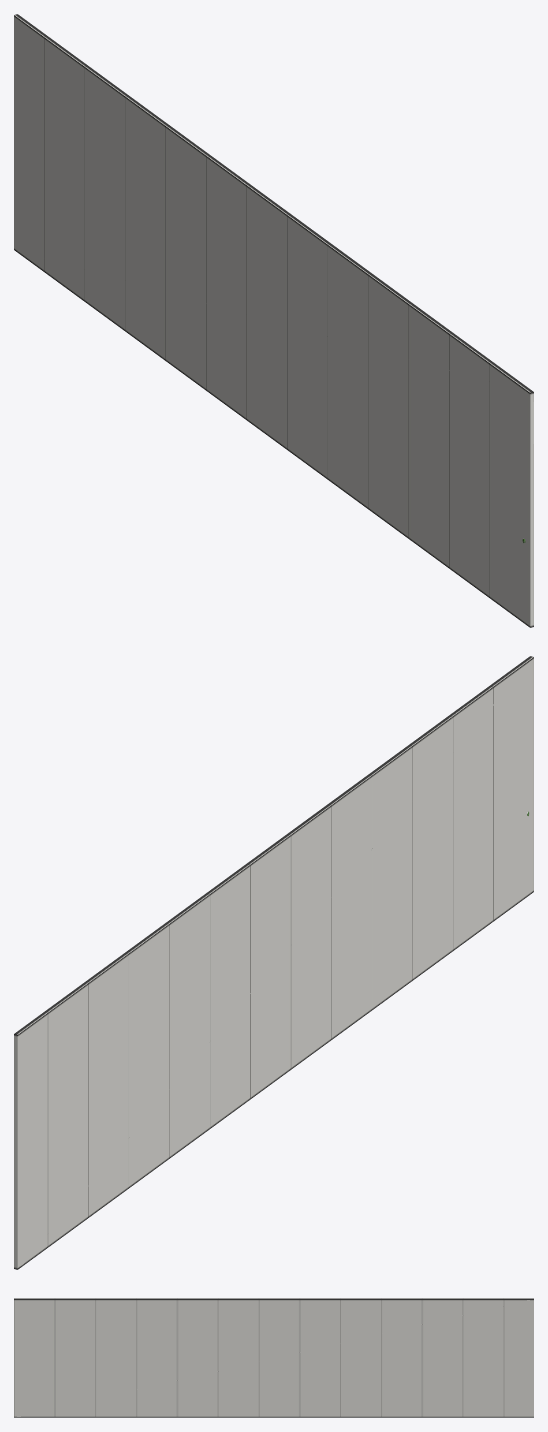
File: Divider23.fbx
3 views of the same model, one above another, from view 1: azimuth 30°, elevation 25°; view 2: azimuth 150°, elevation 25°; view 3: azimuth 270°, elevation 25° (orthographic). The views are drawn at different scales.
Visible parts, largest first — view 1: DividerShort.002; view 2: DividerShort.002; view 3: DividerShort.002.
Part boxes in pixels (bbox=[...]): DividerShort.002: bbox=[14, 14, 533, 627]; DividerShort.002: bbox=[14, 656, 533, 1269]; DividerShort.002: bbox=[14, 1298, 533, 1417].
Size of the model in its own units: 0.0679 by 3.5 by 13.94.
